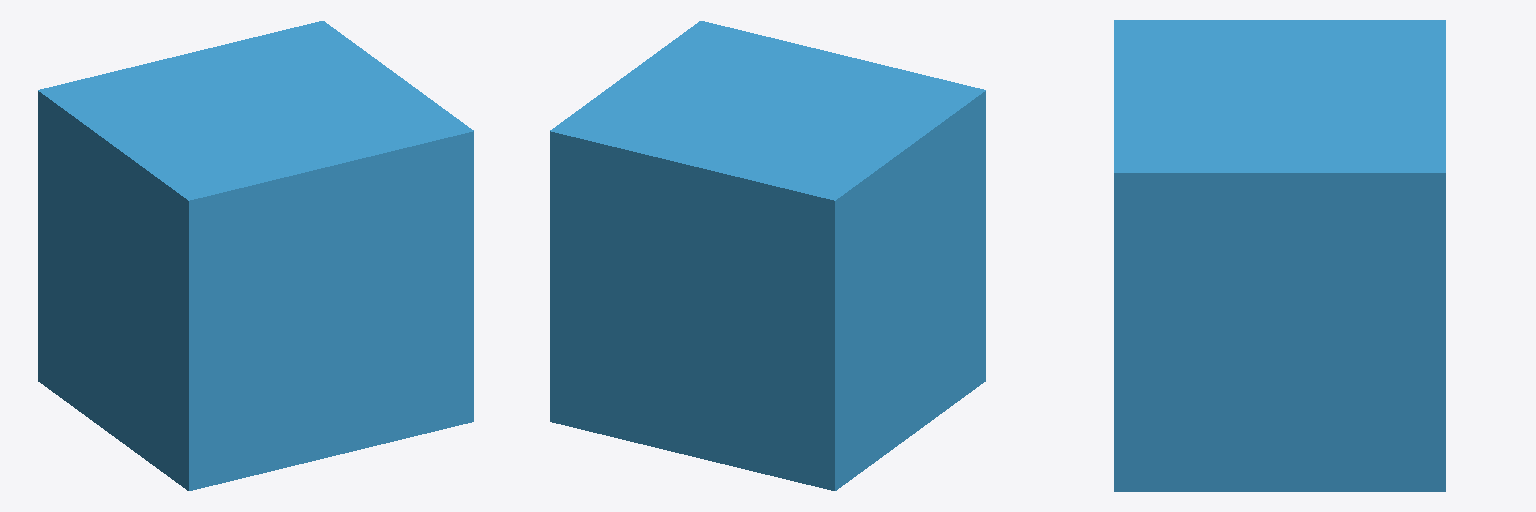
robot.urdf — right-pull-door:
<?xml version="1.0" ?>
<robot name="right-pull-door">
	<link name="base"/>
	<link name="link_0">
		<visual name="out-frame">
			<origin xyz="0 0 0"/>
			<geometry>
				<mesh filename="texture_dae/frame.dae" scale="0.6 0.6 0.6"/>
			</geometry>
		</visual>
		<collision>
			<origin xyz="0 0 0"/>
			<geometry>
				<mesh filename="texture_dae/frame.dae" scale="0.6 0.6 0.6"/>
			</geometry>
		</collision>
	</link>
	<joint name="joint_0" type="fixed">
		<origin rpy="1.570796326794897 0 -1.570796326794897" xyz="0 0 0"/>
		<child link="link_0"/>
		<parent link="base"/>
	</joint>
	<link name="link_1">
		<visual name="surf-board">
			<origin xyz="0.2650474268943071 0 0"/>
			<geometry>
				<mesh filename="texture_dae/board.dae" scale="0.6 0.6 0.6"/>
			</geometry>
		</visual>
		<collision>
			<origin xyz="0.2650474268943071 0 0"/>
			<geometry>
				<mesh filename="texture_dae/board.dae" scale="0.6 0.6 0.6"/>
			</geometry>
		</collision>
	</link>
	<joint name="joint_1" type="revolute">
		<origin xyz="-0.2650474268943071 0 0"/>
		<axis xyz="0 -1 0"/>
		<child link="link_1"/>
		<parent link="link_0"/>
		<limit lower="0" upper="1.5079644737231006"/>
	</joint>
	<link name="link_2">
		<visual name="handle">
			<origin xyz="0 0 0"/>
			<geometry>
				<mesh filename="texture_dae/9961209.dae" scale="1 1 1"/>
			</geometry>
		</visual>
		<collision>
			<origin xyz="0 0 0"/>
			<geometry>
				<mesh filename="texture_dae/9961209.dae" scale="1 1 1"/>
			</geometry>
		</collision>
	</link>
	<joint name="joint_2" type="revolute">
		<origin xyz="0.2650474268943071 0 0.08191116399720614"/>
		<child link="link_2"/>
		<parent link="link_1"/>
		<axis xyz="0 0 1"/>
		<limit lower="0" upper="1.5079644737231006"/>
	</joint>
</robot>

--- Render facts (derived) ---
The picture shows the robot from 3 angles, left to right: view 1: azimuth 30°, elevation 25°; view 2: azimuth 150°, elevation 25°; view 3: azimuth 270°, elevation 25°; orthographic projection.
Robot: right-pull-door — 4 links, 3 joints (2 revolute, 1 fixed); root link base; default pose: every joint at zero.
Visible links, largest first — view 1: link_0; view 2: link_0; view 3: link_0.
Boxes of the visible links, x1=… form: link_0: x1=38, y1=21, x2=473, y2=490; link_0: x1=550, y1=21, x2=985, y2=490; link_0: x1=1114, y1=20, x2=1445, y2=491.
Bounding box of the posed robot: 0.725 × 0.6646 × 0.7091 m (x, y, z).
Meshes: 3 distinct files referenced, 3 mesh visuals loaded (3 Collada DAE).
